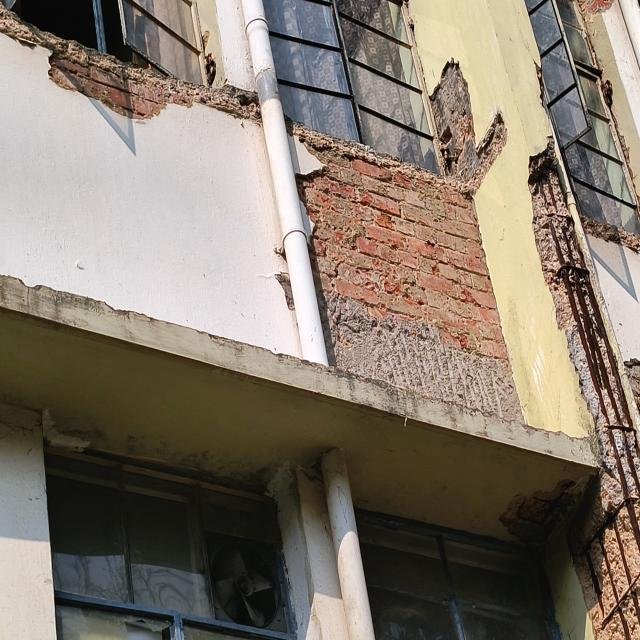spalling: (500, 141, 640, 640), (293, 124, 519, 419), (0, 1, 258, 119), (430, 63, 506, 196), (581, 216, 640, 253), (625, 359, 640, 410)
